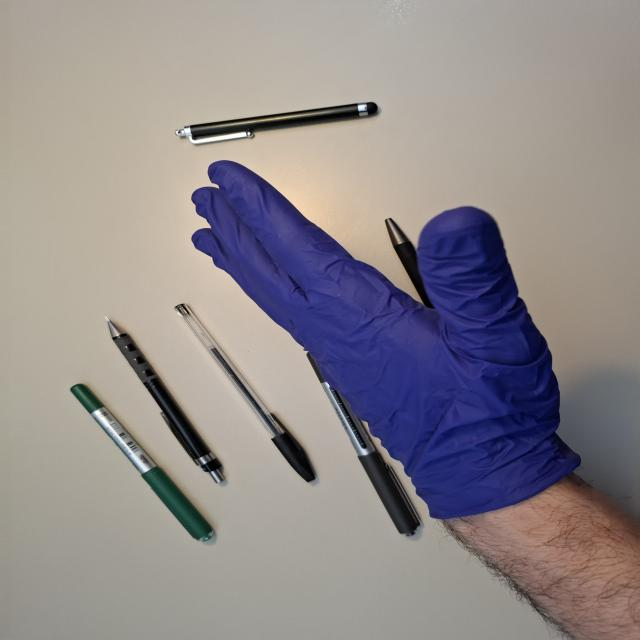glove_on: (188, 158, 574, 520)
